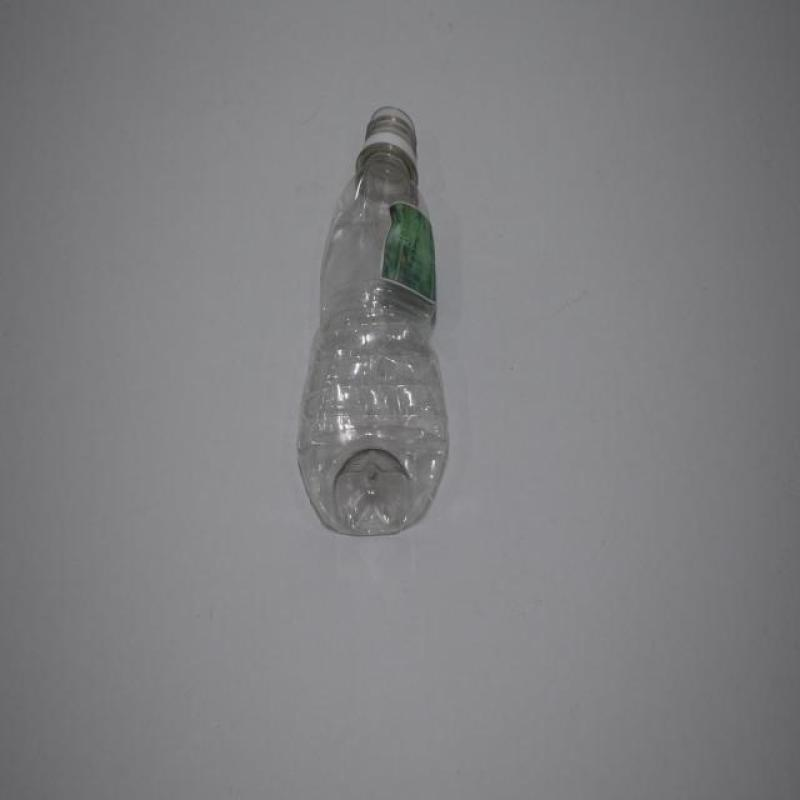botella: (294, 104, 450, 545)
